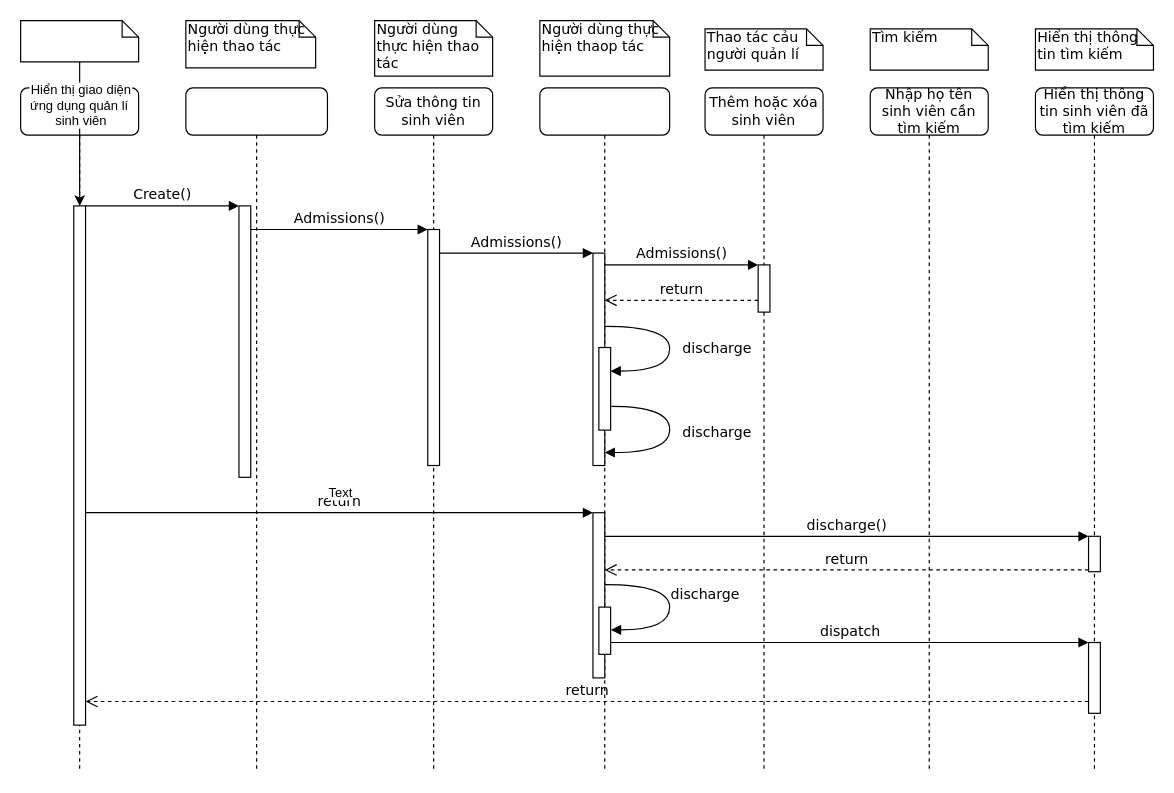
The diagram is 1174 pixels wide and 793 high, and some of its shapes have lost their labels. The centre of each missing label's shape, as x and y in pixels:
"Cập nhật thông tin" belongs at (604,429).
"Khởi tạo ứng dụng" belongs at (79,40).
"Thêm thông tin và lưu thông tin sinh viên" belongs at (256,429).
